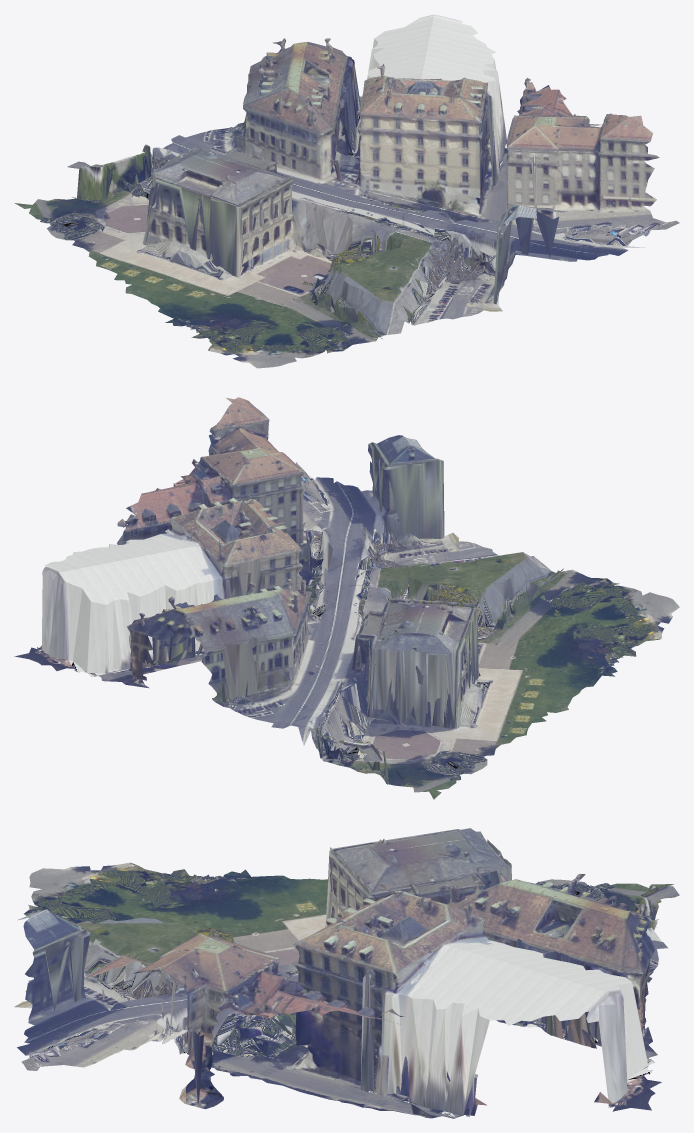
3 views of the same model, one above another, from view 1: azimuth 30°, elevation 25°; view 2: azimuth 150°, elevation 25°; view 3: azimuth 270°, elevation 25° (orthographic). The views are drawn at different scales.
Size of the model in its own units: 108 by 33.82 by 109.
1 material, 1 textured.
